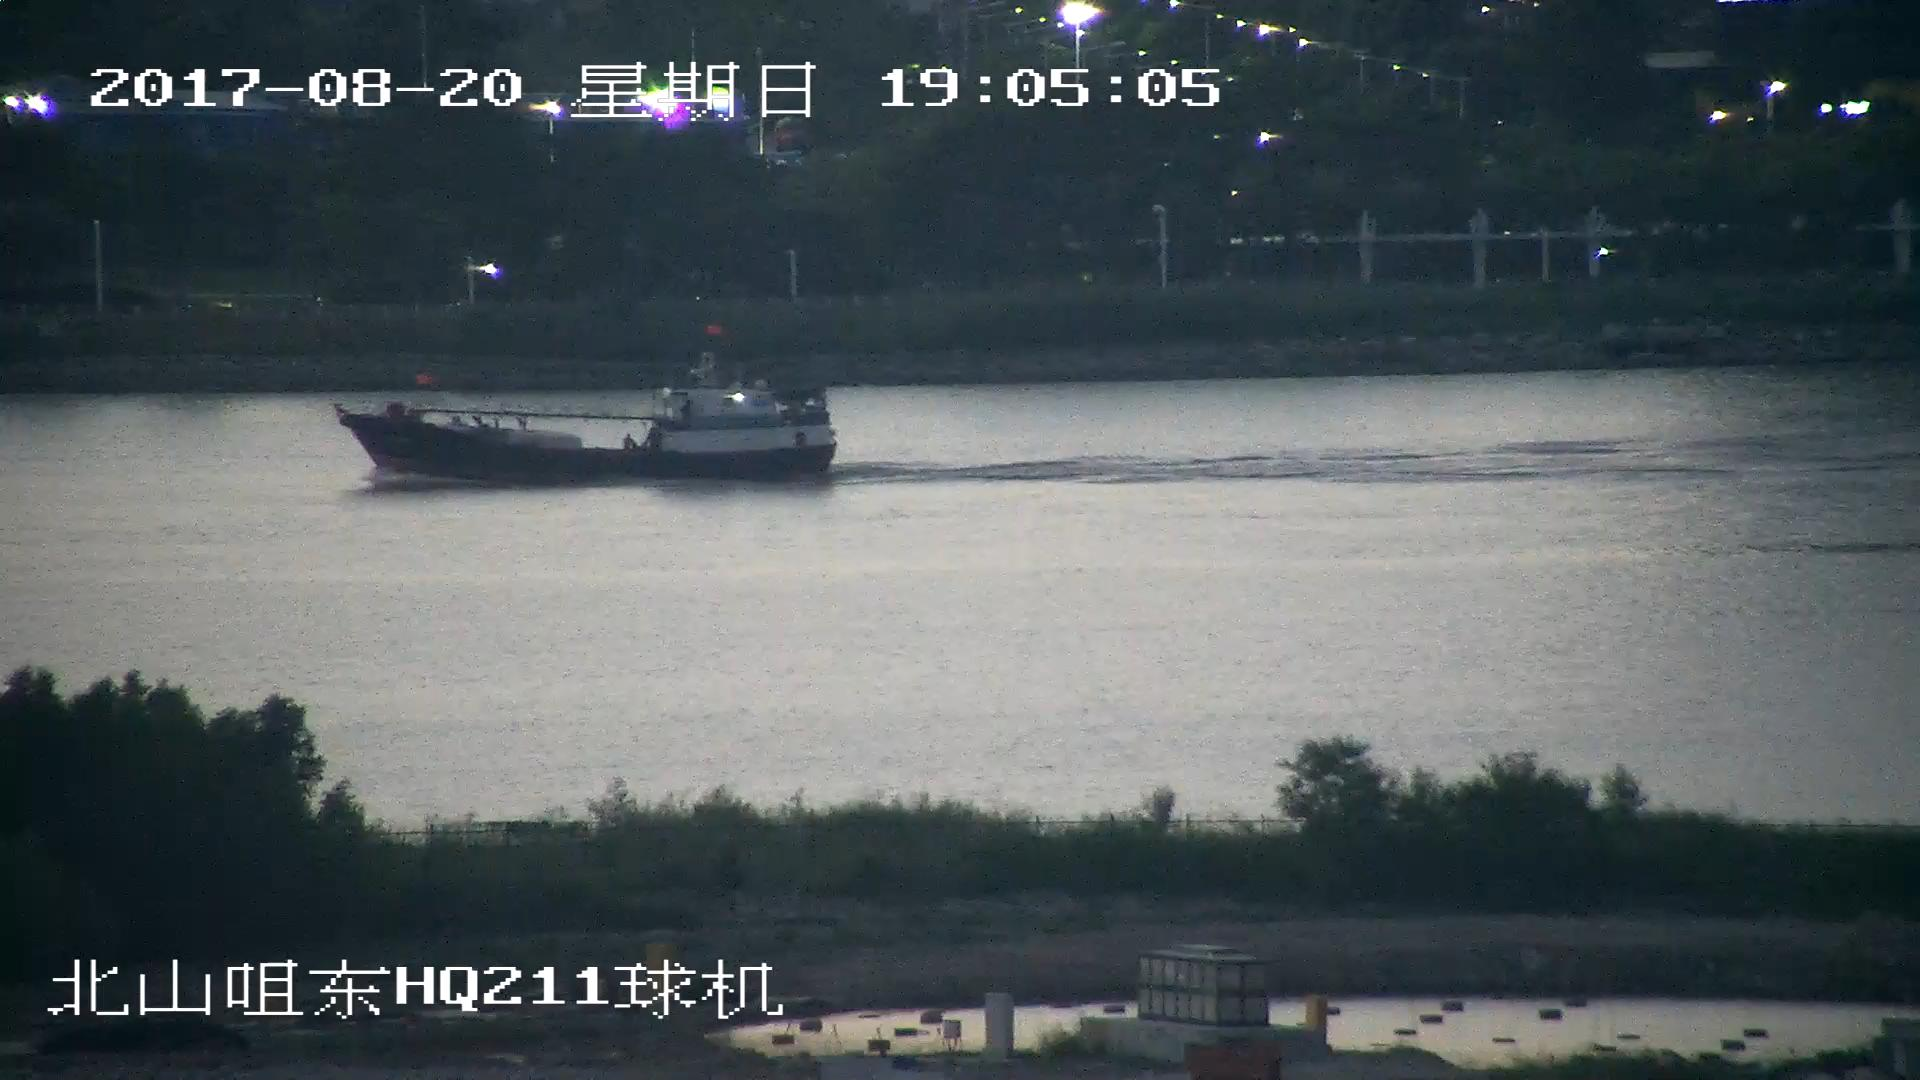fishing boat: (345, 343, 843, 485)
